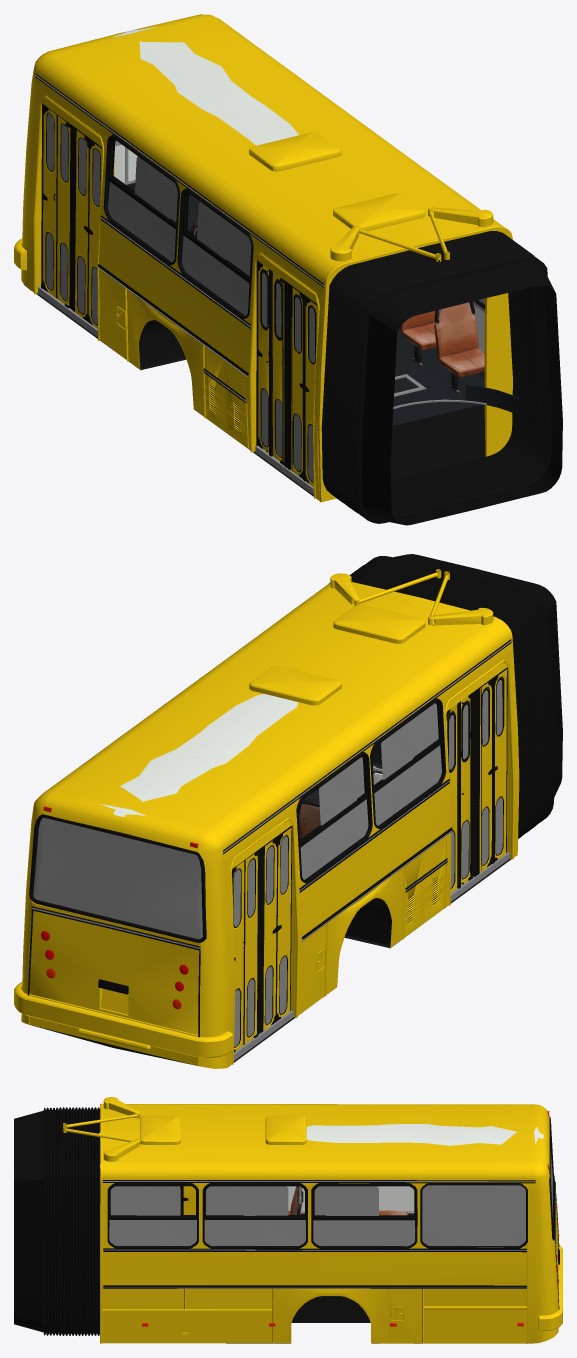
File: BusTrailer.FBX
3 views of the same model, one above another, from view 1: azimuth 30°, elevation 25°; view 2: azimuth 150°, elevation 25°; view 3: azimuth 270°, elevation 25° (orthographic). The views are drawn at different scales.
Parts seen in each view (by area): view 1: Body, Connector, Interior, Windows, Buttom, Rubber, Rear Door 2, Rear Door 1, Front Door 1, Front Door 2; view 2: Body, Windows, Connector, Interior, Rubber, Rear Door 1, Rear Door 2, Front Door 1, Rear Bumper, Front Door 2, Buttom; view 3: Body, Windows, Connector, Interior, Rubber, Buttom, Rear Bumper, Front Door 2.
Boxes of the visible parts, x1,y1,x2,y2 form: Body: (21,14,512,502); Connector: (321,231,562,525); Interior: (37,26,520,494); Windows: (108,156,485,337); Buttom: (36,293,485,496); Rubber: (103,134,485,481); Rear Door 2: (41,103,73,308); Rear Door 1: (71,126,102,328); Front Door 1: (290,284,317,486); Front Door 2: (256,260,284,465); Body: (21,569,519,1068); Windows: (33,703,468,939); Connector: (350,554,562,838); Interior: (100,694,509,1060); Rubber: (29,676,503,942); Rear Door 1: (260,826,292,1033); Rear Door 2: (232,848,260,1052); Front Door 1: (479,667,507,872); Rear Bumper: (14,982,233,1057); Front Door 2: (446,692,473,892); Buttom: (29,858,511,1065); Body: (63,1097,559,1343); Windows: (109,1151,552,1247); Connector: (14,1107,100,1335); Interior: (287,1124,543,1296); Rubber: (107,1116,554,1248); Buttom: (226,1296,527,1343); Rear Bumper: (538,1245,562,1330); Front Door 2: (179,1186,195,1214).
Bounding box in the file's own units: 2.87 × 3.17 × 8.56.
10 materials, 2 textured.
